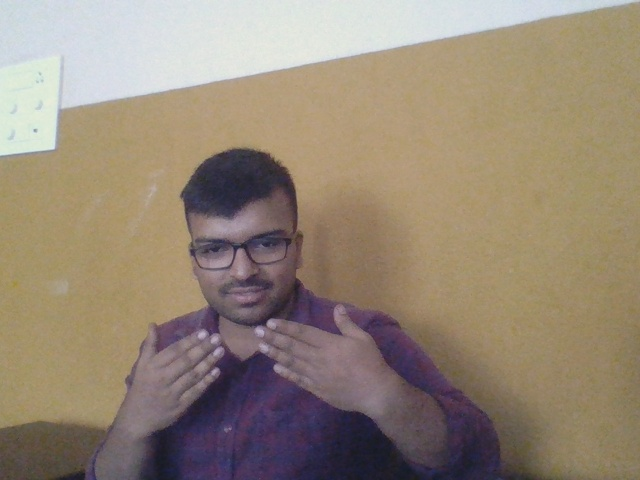Thank You: (113, 303, 411, 440)
